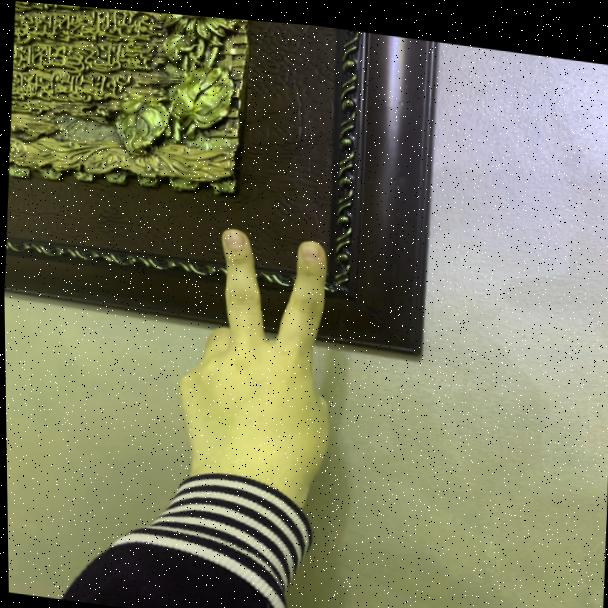two: (157, 201, 371, 542)
